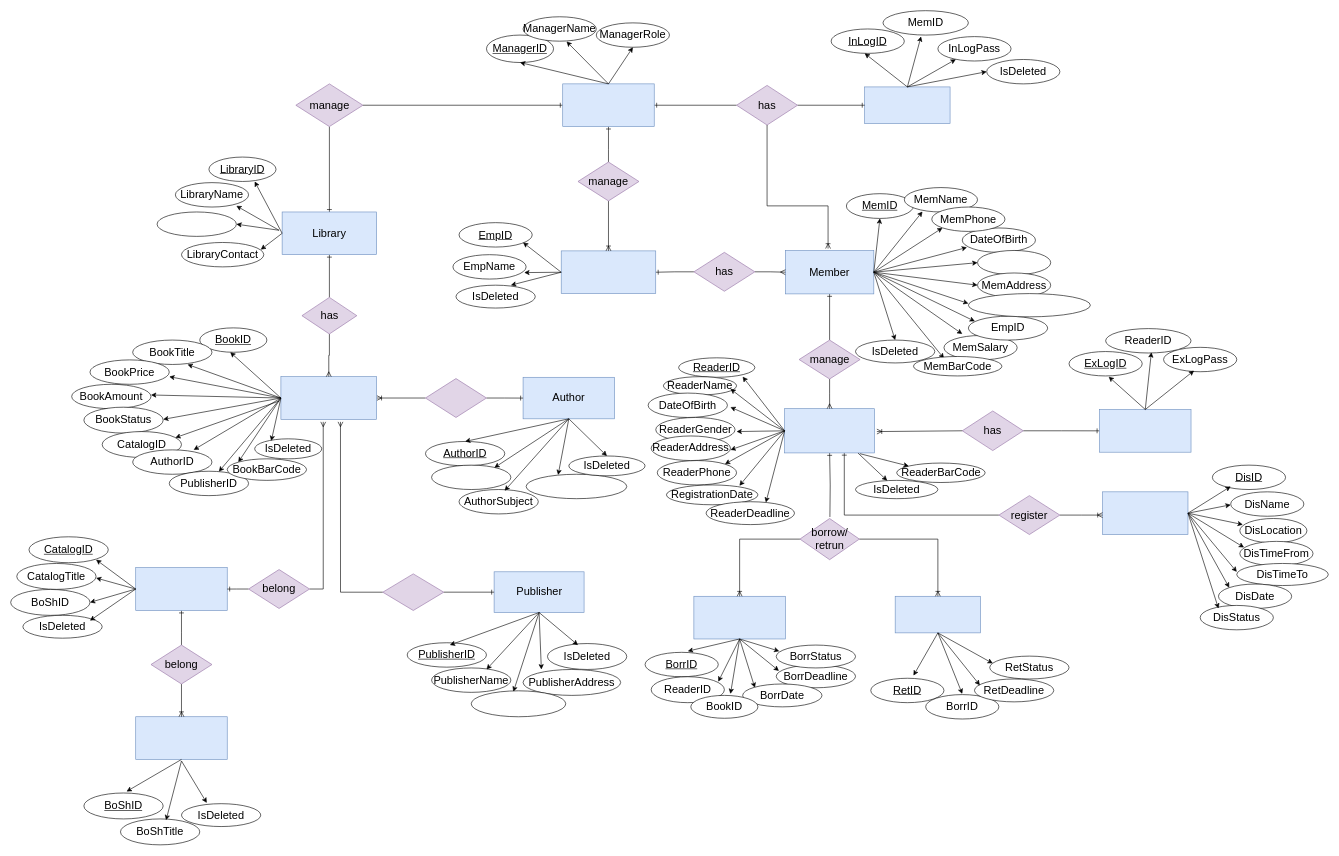
Image size: 1339x856. Some labels were removed from this diagram. Each missing label, with the centre of its shape:
"AuthorName" goes at pixel 471 477.
"AuthorQualification" goes at pixel 576 486.
"Books" goes at pixel 328 397.
"BookShelf" goes at pixel 181 737.
"BorrowBooks" goes at pixel 739 617.
"CatalogOfBooks" goes at pixel 181 588.
"DiscussionRoom" goes at pixel 1145 513.
"Employee" goes at pixel 608 272.
"InternalLogin" goes at pixel 907 105.
"LibraryAddress" goes at pixel 196 223.
"Manager" goes at pixel 608 105.
"MemGender" goes at pixel 1014 262.
"MemRegistrationDate" goes at pixel 1029 305.
"publish" goes at pixel 413 591.
"PublisherPhone" goes at pixel 518 703.
"Reader" goes at pixel 829 430.
"ReaderLogin" goes at pixel 1145 430.
"ReturnBooks" goes at pixel 938 614.
"written by" goes at pixel 455 397.
